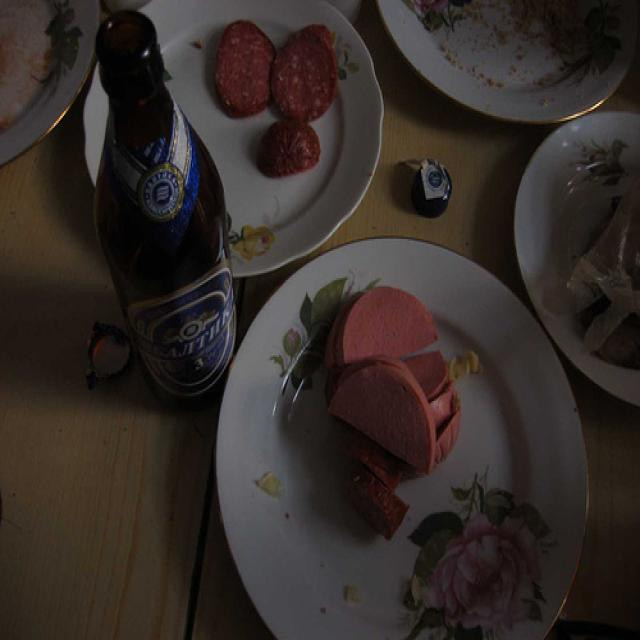Bottle: (83, 16, 238, 440)
